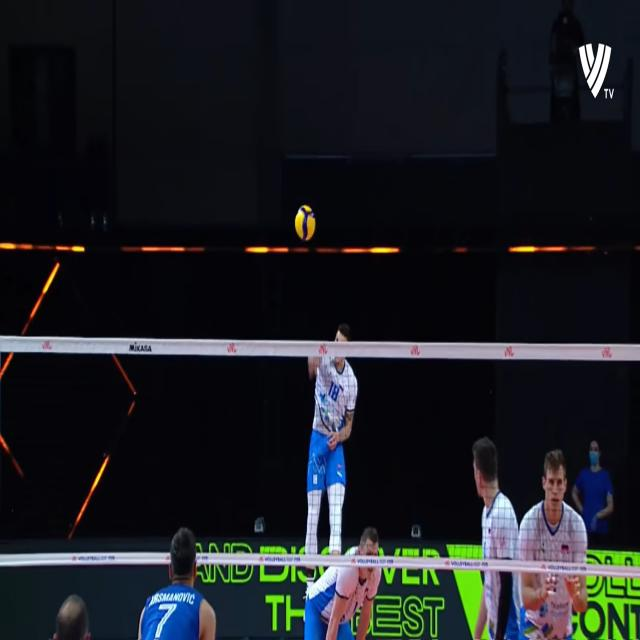player: (520, 445, 586, 640), (306, 322, 355, 570), (468, 427, 521, 640), (135, 531, 220, 640), (309, 519, 379, 640)
